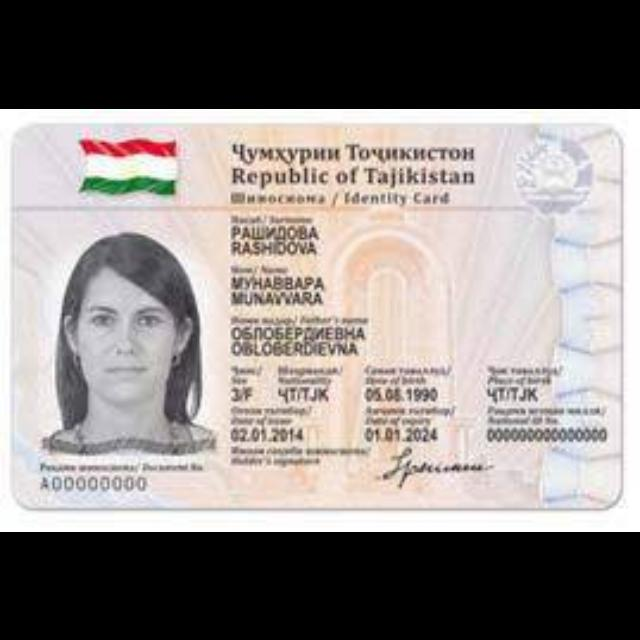passport: (8, 117, 630, 515)
